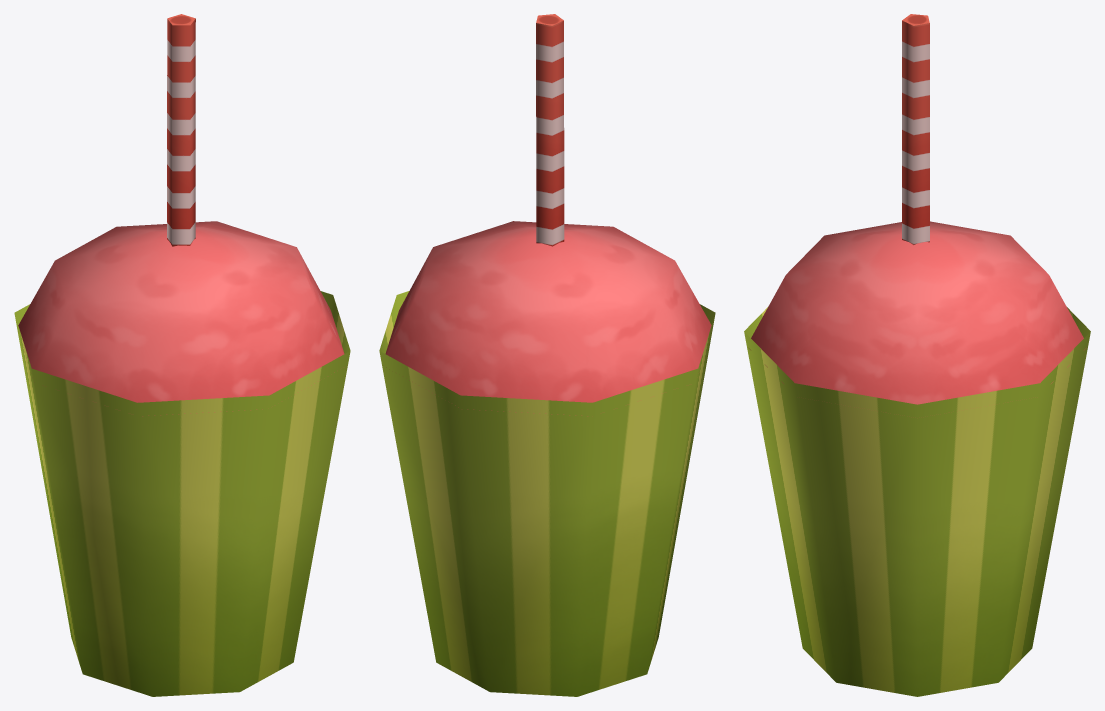
File: soda-low-poly.fbx
3 views of the same model, side by side, from view 1: azimuth 30°, elevation 25°; view 2: azimuth 150°, elevation 25°; view 3: azimuth 270°, elevation 25° (orthographic).
Visible parts, largest first — view 1: taco; view 2: taco; view 3: taco.
Part boxes in pixels (x1,y1,x2,y2): taco: (14, 14, 350, 696); taco: (379, 14, 715, 696); taco: (744, 14, 1090, 696).
Size of the model in its own units: 11.54 by 23.06 by 11.54.
Materials: 1 (1 with a texture image).
